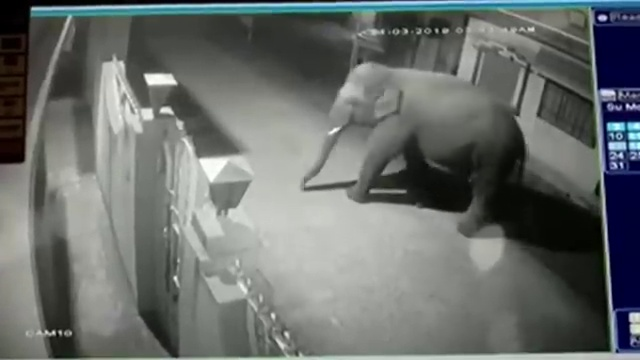Elephant: (299, 62, 526, 238)
